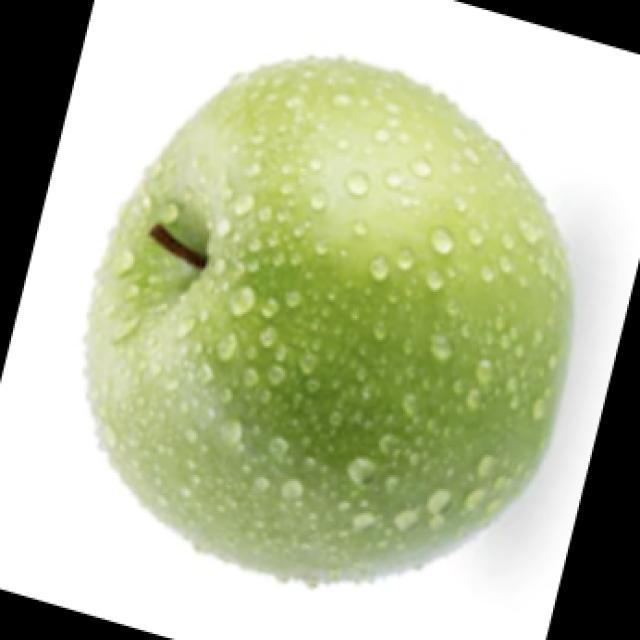Apple: (82, 53, 574, 588)
